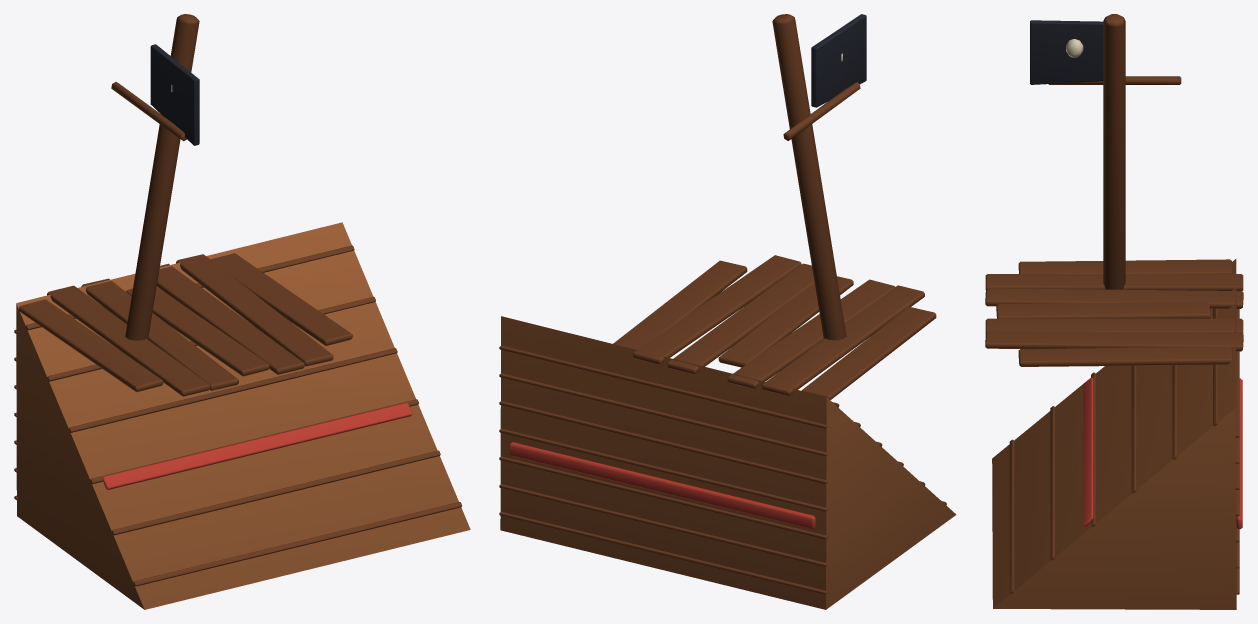
Rendered from SM_Set_ShipwreckBow.fbx.
3 views of the same model, side by side, from view 1: azimuth 30°, elevation 25°; view 2: azimuth 150°, elevation 25°; view 3: azimuth 270°, elevation 25° (orthographic). The views are drawn at different scales.
Parts seen in each view (by area): view 1: SM_Set_ShipwreckBow; view 2: SM_Set_ShipwreckBow; view 3: SM_Set_ShipwreckBow.
Boxes of the visible parts, <box> form: SM_Set_ShipwreckBow: <box>14,14,470,609</box>; SM_Set_ShipwreckBow: <box>499,14,956,609</box>; SM_Set_ShipwreckBow: <box>985,14,1243,609</box>.
Size of the model in its own units: 161 by 245 by 116.
